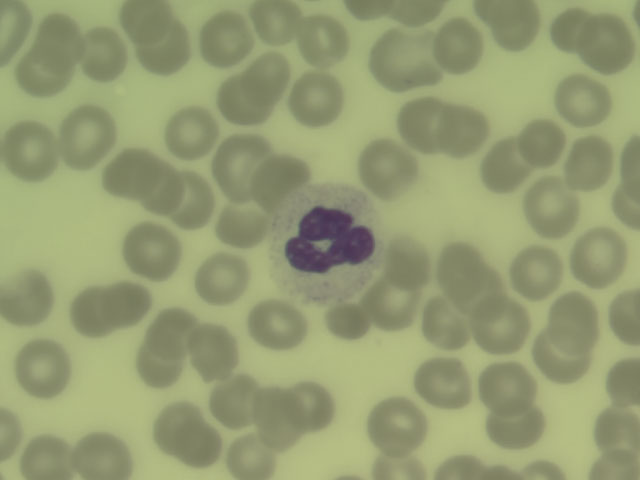RBC: (368, 31, 444, 85), (214, 131, 273, 199), (507, 244, 569, 296), (254, 153, 311, 208), (360, 138, 417, 191), (547, 3, 604, 56), (430, 20, 487, 73), (215, 198, 272, 251), (286, 71, 343, 124), (294, 13, 351, 66), (236, 49, 293, 102), (215, 75, 272, 128), (162, 172, 219, 225), (131, 161, 188, 214), (284, 379, 341, 432), (255, 392, 312, 445), (206, 377, 263, 430), (150, 397, 207, 450), (193, 253, 250, 306), (185, 325, 242, 378), (129, 334, 186, 387), (124, 224, 181, 277), (64, 285, 121, 338), (14, 340, 71, 393), (162, 105, 219, 158), (102, 147, 159, 200), (58, 112, 115, 165), (3, 126, 60, 179), (197, 13, 254, 66), (136, 20, 193, 73), (71, 26, 128, 79), (16, 43, 73, 96), (34, 14, 91, 67), (448, 263, 505, 316), (414, 296, 471, 349), (472, 299, 529, 352), (570, 230, 627, 283), (534, 331, 591, 384), (544, 293, 601, 346), (485, 396, 542, 449), (478, 359, 535, 412), (414, 356, 471, 409), (369, 398, 426, 451), (376, 233, 433, 286), (363, 281, 420, 334), (317, 292, 374, 345), (247, 297, 304, 350), (554, 75, 611, 128), (577, 15, 634, 68), (394, 93, 451, 146), (433, 103, 490, 156), (480, 141, 537, 194), (562, 134, 619, 187), (523, 178, 580, 231), (432, 238, 489, 291), (1, 273, 57, 326), (486, 1, 543, 53), (73, 427, 130, 479), (17, 427, 74, 479), (249, 1, 304, 46), (593, 402, 640, 454), (222, 436, 277, 479), (107, 281, 155, 329), (522, 118, 569, 167), (148, 307, 196, 353), (114, 1, 165, 42), (605, 287, 640, 345), (602, 183, 640, 234), (599, 359, 640, 406), (1, 2, 29, 64), (184, 423, 224, 466), (370, 449, 425, 480), (389, 1, 449, 26), (427, 453, 483, 479), (587, 452, 640, 479), (342, 1, 393, 28), (1, 397, 23, 459), (512, 456, 565, 479)
WBC: (281, 192, 381, 291)
